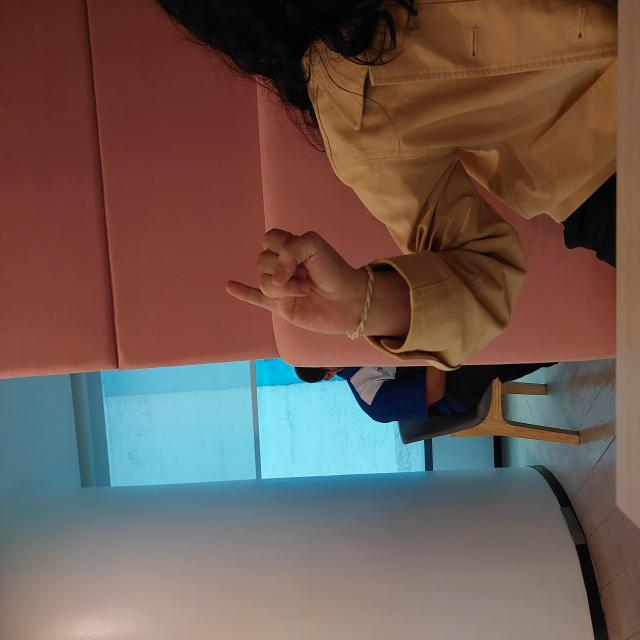I: (295, 218, 421, 367)
